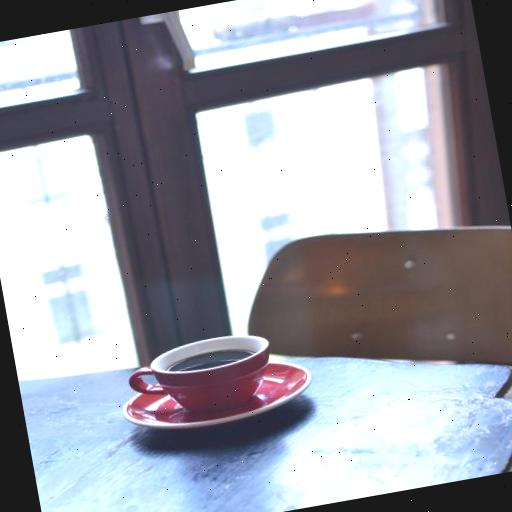cup: (124, 328, 279, 424)
